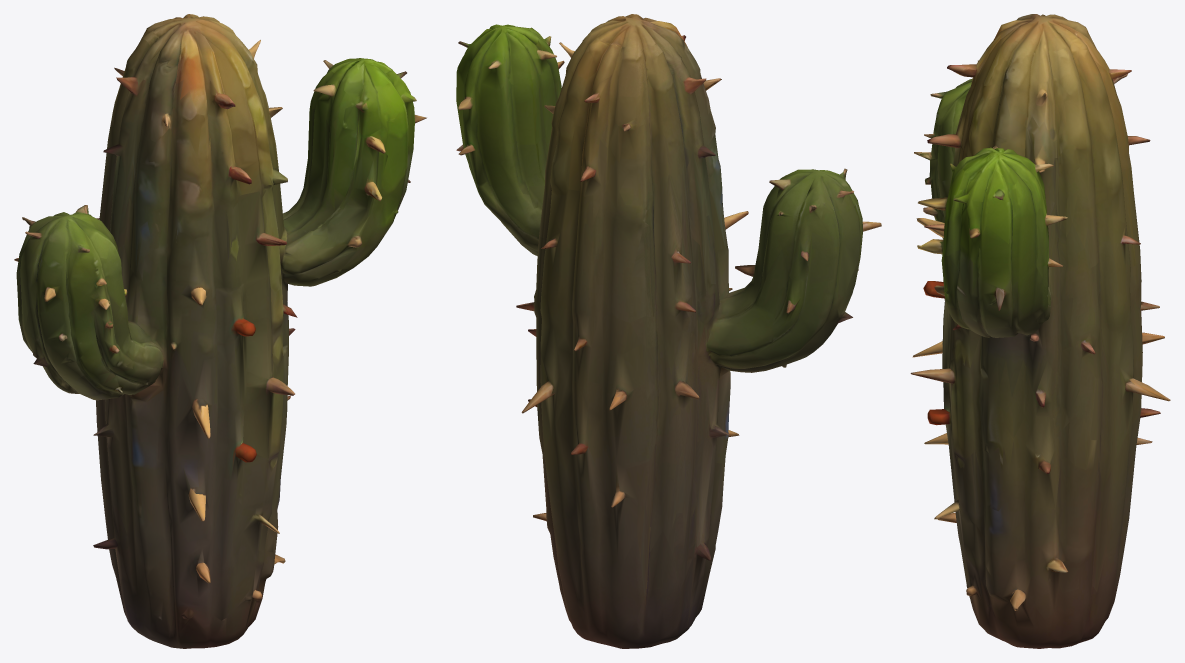
The model's file is prop_gulch_cactus.fbx.
3 views of the same model, side by side, from view 1: azimuth 30°, elevation 25°; view 2: azimuth 150°, elevation 25°; view 3: azimuth 270°, elevation 25° (orthographic).
Visible parts, largest first — view 1: prop_gulch_cactus_LOD0; view 2: prop_gulch_cactus_LOD0; view 3: prop_gulch_cactus_LOD0.
Boxes of the visible parts, x1,y1,x2,y2 form: prop_gulch_cactus_LOD0: (14, 14, 426, 648); prop_gulch_cactus_LOD0: (456, 14, 881, 648); prop_gulch_cactus_LOD0: (910, 14, 1170, 648).
Size of what is drawn, in the model's own units: 0.6706 by 0.9788 by 0.3796.
